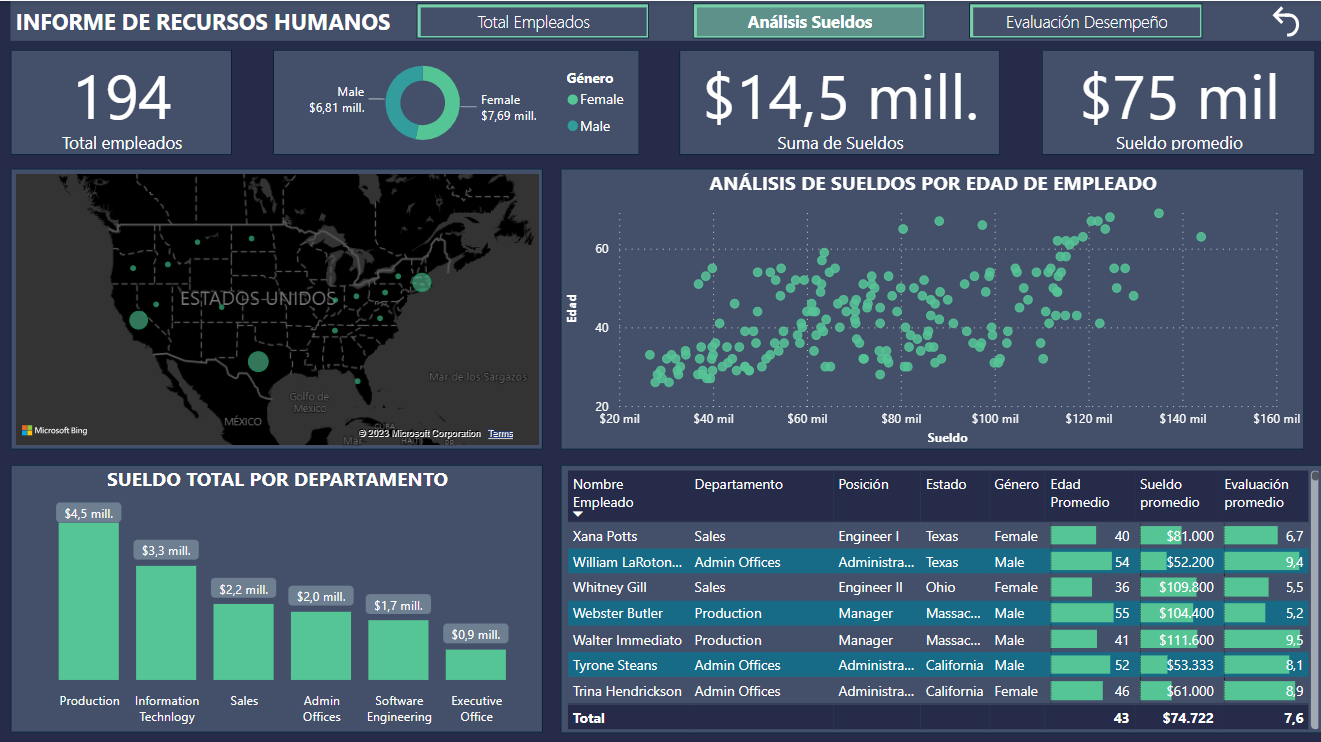

What the dashboard file says about the page in this screenshot:
{"tool":"powerbi","page":{"name":"Análisis Sueldos","canvas":[1280,720],"ordinal":1},"visuals":[{"type":"tableEx","fields":{"Values":["Tabla Empleados.Nombre Empleado","Tabla Empleados.Departamento","Tabla Empleados.Posición","Tabla Empleados.Estado","Tabla Empleados.Género","Tabla Empleados.Edad Promedio","Tabla Sueldo.Sueldo promedio","Tabla Evaluacion.Evaluación promedio"]},"box":[542.7,447.4,736.9,259.3],"z":0},{"type":"card","fields":{"Values":["Tabla Empleados.Total empleados"]},"box":[12.1,47,213.5,101.3],"z":1000},{"type":"donutChart","fields":{"Category":["Tabla Empleados.Género"],"Y":["Sum(Tabla Sueldo.Sueldo)"]},"box":[264.9,47,353.4,101.3],"z":2000},{"type":"columnChart","title":"SUELDO TOTAL POR DEPARTAMENTO","fields":{"Category":["Tabla Empleados.Departamento"],"Y":["Sum(Tabla Sueldo.Sueldo)"]},"box":[12.1,447.4,513.8,258.1],"z":3000},{"type":"map","fields":{"Category":["Tabla Empleados.Estado"],"Size":["Sum(Tabla Sueldo.Sueldo)"]},"box":[12.1,161.6,513.8,271.4],"z":4000},{"type":"card","fields":{"Values":["Tabla Sueldo.Sueldo promedio"]},"box":[1007,47,264.1,101.3],"z":5000},{"type":"card","fields":{"Values":["Sum(Tabla Sueldo.Sueldo)"]},"box":[657.7,47,309.9,101.3],"z":6000},{"type":"scatterChart","title":"ANÁLISIS DE SUELDOS POR EDAD DE EMPLEADO","fields":{"Category":["Tabla Empleados.Nombre Empleado"],"X":["Sum(Tabla Sueldo.Sueldo)"],"Y":["Sum(Tabla Empleados.Edad)"]},"box":[542.7,161.6,717.6,271.4],"z":7000},{"type":"textbox","title":"INFORME DE RECURSOS HUMANOS","box":[12.1,0,1267.5,38.6],"z":8000},{"type":"actionButton","box":[404.5,2.8,223.8,33.4],"z":9000},{"type":"actionButton","box":[670.7,2.8,223.8,33.4],"z":10000},{"type":"actionButton","box":[936.9,2.8,225.2,33.4],"z":11000},{"type":"actionButton","box":[1206.6,0,73.7,38.9],"z":11001}]}

Visuals, with their boxes in screenshot pixels (x1, y1, x2, y2), scaled from the page's 1280x720 canvas onto the 1321x742 screenshot:
tableEx - Tabla Empleados.Nombre Empleado x Tabla Empleados.Departamento: pyautogui.locateOnScreen(560, 461, 1320, 728)
card - Tabla Empleados.Total empleados: pyautogui.locateOnScreen(12, 48, 233, 153)
donutChart - Tabla Empleados.Género x Sum(Tabla Sueldo.Sueldo): pyautogui.locateOnScreen(273, 48, 638, 153)
"SUELDO TOTAL POR DEPARTAMENTO" columnChart: pyautogui.locateOnScreen(12, 461, 543, 727)
map - Tabla Empleados.Estado x Sum(Tabla Sueldo.Sueldo): pyautogui.locateOnScreen(12, 167, 543, 446)
card - Tabla Sueldo.Sueldo promedio: pyautogui.locateOnScreen(1039, 48, 1312, 153)
card - Sum(Tabla Sueldo.Sueldo): pyautogui.locateOnScreen(679, 48, 999, 153)
"ANÁLISIS DE SUELDOS POR EDAD DE EMPLEADO" scatterChart: pyautogui.locateOnScreen(560, 167, 1301, 446)
"INFORME DE RECURSOS HUMANOS" textbox: pyautogui.locateOnScreen(12, 0, 1320, 40)
actionButton: pyautogui.locateOnScreen(417, 3, 648, 37)
actionButton: pyautogui.locateOnScreen(692, 3, 923, 37)
actionButton: pyautogui.locateOnScreen(967, 3, 1199, 37)
actionButton: pyautogui.locateOnScreen(1245, 0, 1320, 40)
